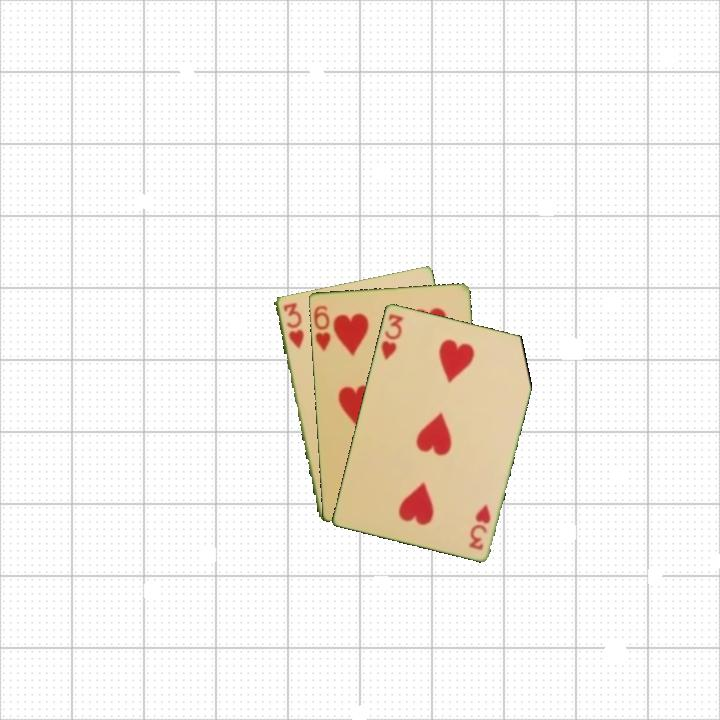3h: (377, 310, 406, 362), (465, 500, 493, 553), (279, 299, 307, 351)
6h: (310, 301, 333, 353)
